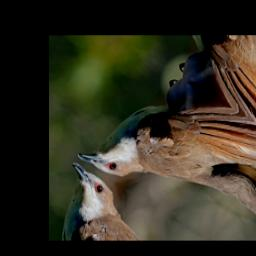Cuckoo: (76, 51, 256, 238)
